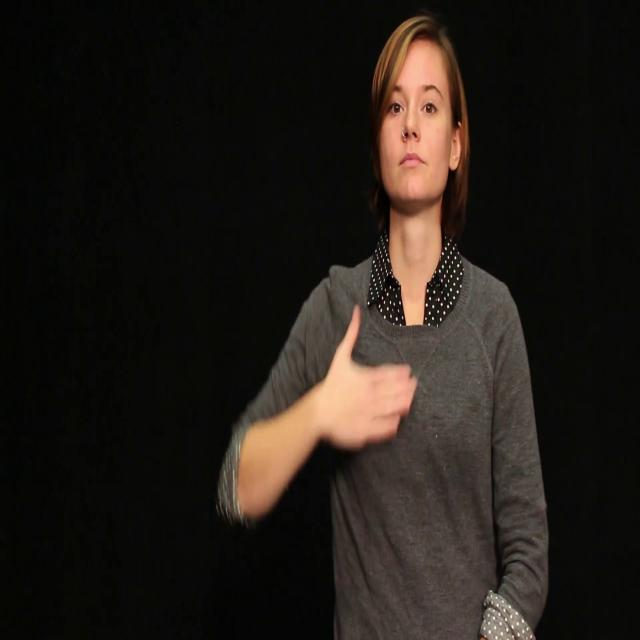please: (319, 296, 423, 462)
